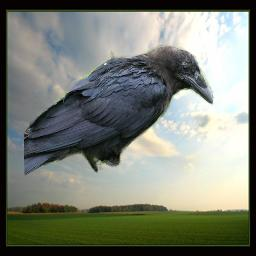Crow: (24, 44, 215, 176)
